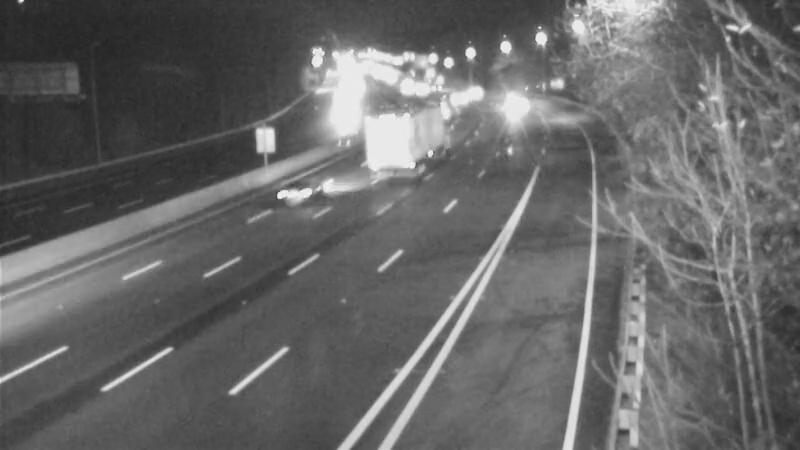vehicle: (263, 152, 343, 232), (442, 65, 492, 115), (437, 75, 487, 125), (487, 81, 537, 131), (409, 83, 459, 133), (368, 112, 418, 162)
